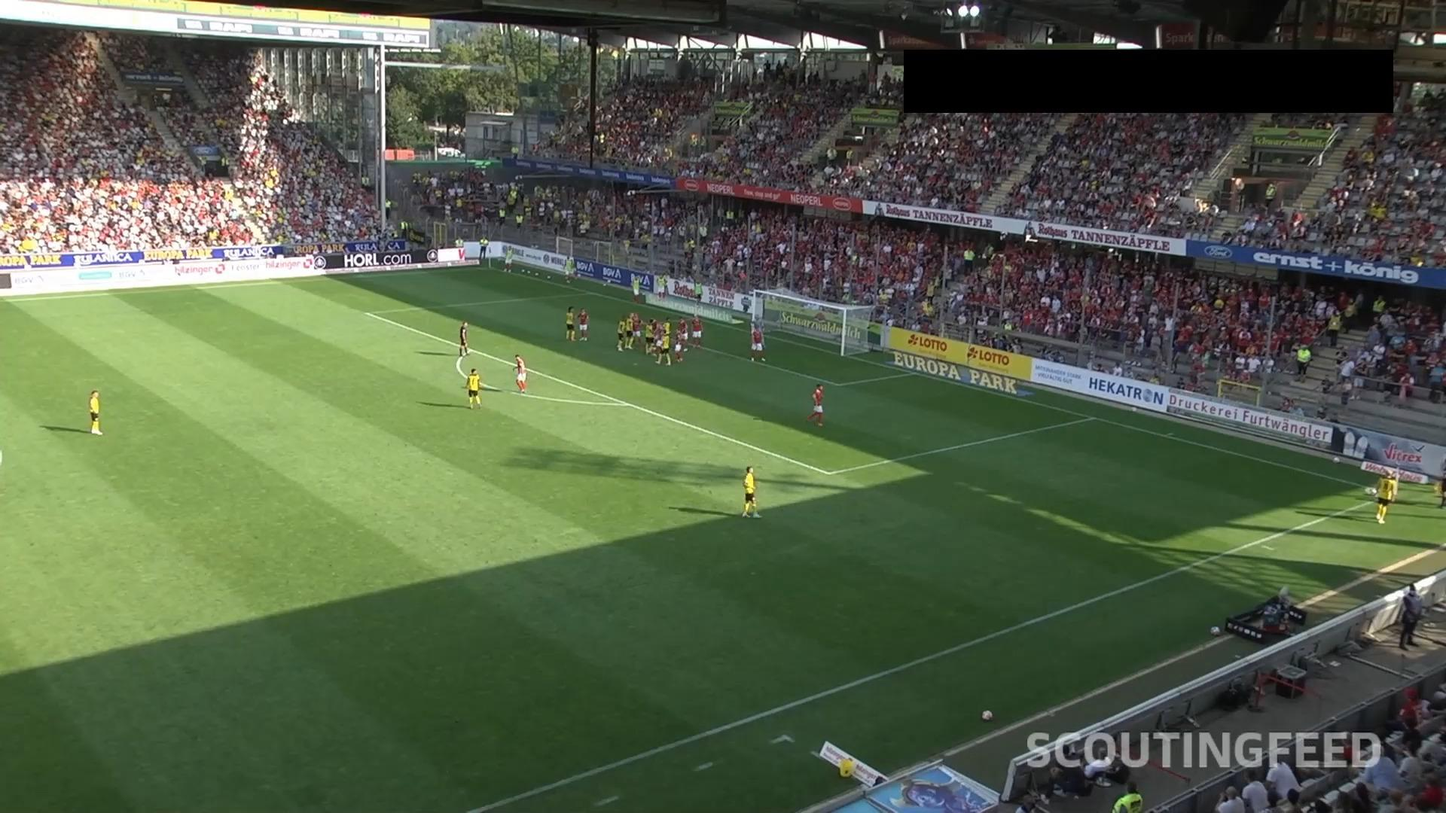goalkeeper: (751, 312, 767, 350)
player: (737, 467, 761, 518), (1377, 475, 1397, 526), (85, 388, 106, 436), (807, 382, 827, 426), (656, 324, 673, 366), (464, 370, 482, 409), (510, 355, 527, 391), (562, 304, 578, 341), (751, 326, 767, 363), (676, 317, 689, 362), (691, 315, 703, 350), (577, 308, 589, 341), (615, 317, 626, 351), (633, 312, 643, 347), (646, 320, 656, 355), (665, 317, 673, 356), (626, 312, 634, 349)
referee: (456, 319, 471, 357)
